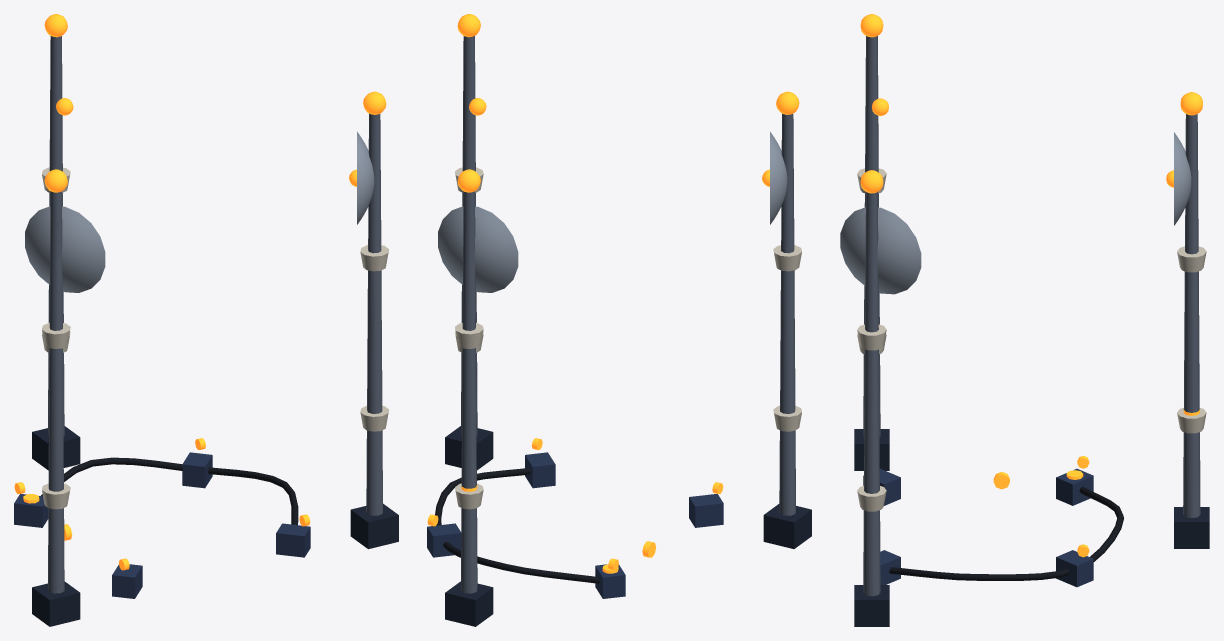
The model's file is tower_overclock_network_s7.glb.
3 views of the same model, side by side, from view 1: azimuth 30°, elevation 25°; view 2: azimuth 150°, elevation 25°; view 3: azimuth 270°, elevation 25° (orthographic).
Parts seen in each view (by area): view 1: overclock_antenna2, overclock_antenna1, overclock_link_dish2, overclock_antenna0, overclock_relay_cable, overclock_antenna_foot2, overclock_antenna_foot1, overclock_antenna_foot0, overclock_link_dish1, overclock_relay2, overclock_relay1, overclock_relay3 (+5 smaller); view 2: overclock_antenna0, overclock_antenna2, overclock_link_dish0, overclock_antenna1, overclock_relay_cable, overclock_antenna_foot2, overclock_antenna_foot0, overclock_antenna_foot1, overclock_link_dish2, overclock_relay3, overclock_relay2, overclock_relay1 (+5 smaller); view 3: overclock_antenna1, overclock_antenna0, overclock_link_dish1, overclock_antenna2, overclock_relay_cable, overclock_antenna_foot1, overclock_antenna_foot0, overclock_link_dish0, overclock_relay1, overclock_relay0, overclock_antenna_foot2, overclock_antenna_insulator01.9 (+5 smaller).
Boxes of the visible parts, x1,y1,x2,y2 form: overclock_antenna2: [48, 191, 64, 593]; overclock_antenna1: [366, 113, 382, 515]; overclock_link_dish2: [25, 206, 105, 292]; overclock_antenna0: [48, 36, 64, 436]; overclock_relay_cable: [41, 457, 298, 524]; overclock_antenna_foot2: [32, 581, 80, 626]; overclock_antenna_foot1: [350, 503, 398, 549]; overclock_antenna_foot0: [32, 426, 80, 470]; overclock_link_dish1: [357, 131, 374, 224]; overclock_relay2: [276, 523, 310, 557]; overclock_relay1: [182, 452, 212, 488]; overclock_relay3: [112, 564, 142, 598]; overclock_antenna0: [461, 191, 477, 593]; overclock_antenna2: [779, 113, 795, 515]; overclock_link_dish0: [438, 206, 518, 292]; overclock_antenna1: [461, 36, 477, 435]; overclock_relay_cable: [435, 467, 599, 583]; overclock_antenna_foot2: [763, 504, 811, 548]; overclock_antenna_foot0: [445, 581, 493, 626]; overclock_antenna_foot1: [445, 426, 493, 470]; overclock_link_dish2: [770, 131, 787, 224]; overclock_relay3: [689, 494, 723, 527]; overclock_relay2: [525, 452, 555, 488]; overclock_relay1: [427, 523, 461, 557]; overclock_antenna1: [863, 192, 880, 596]; overclock_antenna0: [1183, 114, 1200, 518]; overclock_link_dish1: [840, 207, 921, 294]; overclock_antenna2: [863, 36, 880, 437]; overclock_relay_cable: [889, 486, 1123, 580]; overclock_antenna_foot1: [854, 585, 889, 626]; overclock_antenna_foot0: [1174, 507, 1209, 548]; overclock_link_dish0: [1174, 132, 1191, 225]; overclock_relay1: [1056, 550, 1093, 587]; overclock_relay0: [1056, 468, 1093, 505]; overclock_antenna_foot2: [854, 429, 889, 470]; overclock_antenna_insulator01.9: [1177, 246, 1206, 272].
Bounding box in the file's own units: 1.37 × 1.67 × 1.25.
